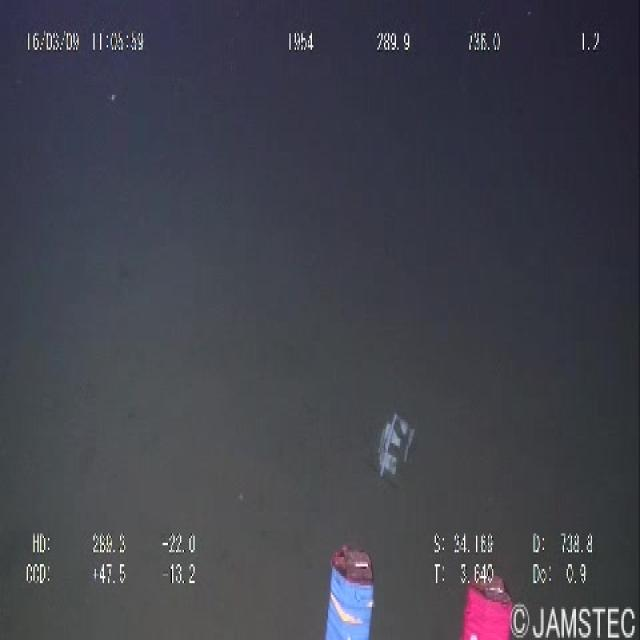plastic: (371, 396, 418, 491)
